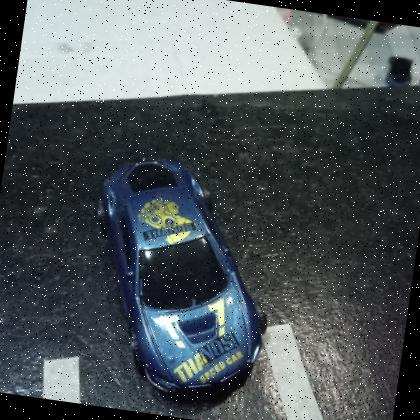Car: (70, 148, 290, 407)
